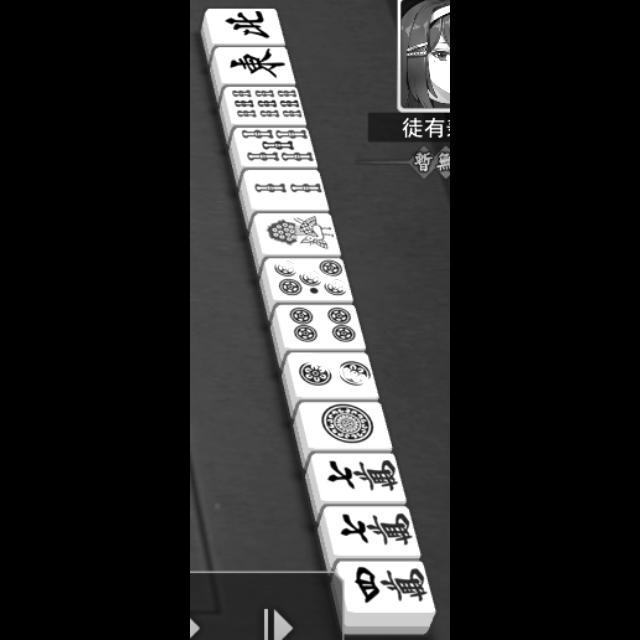1p: (304, 402, 390, 446)
1s: (259, 213, 341, 254)
2p: (294, 355, 379, 398)
2s: (251, 171, 327, 208)
4m: (338, 564, 430, 624)
4p: (279, 305, 365, 345)
5p: (270, 260, 355, 302)
5s: (240, 128, 319, 166)
7m: (315, 454, 405, 502), (331, 508, 420, 554)
9s: (230, 88, 307, 122)
pe: (210, 9, 285, 44)
tou: (217, 47, 295, 82)
